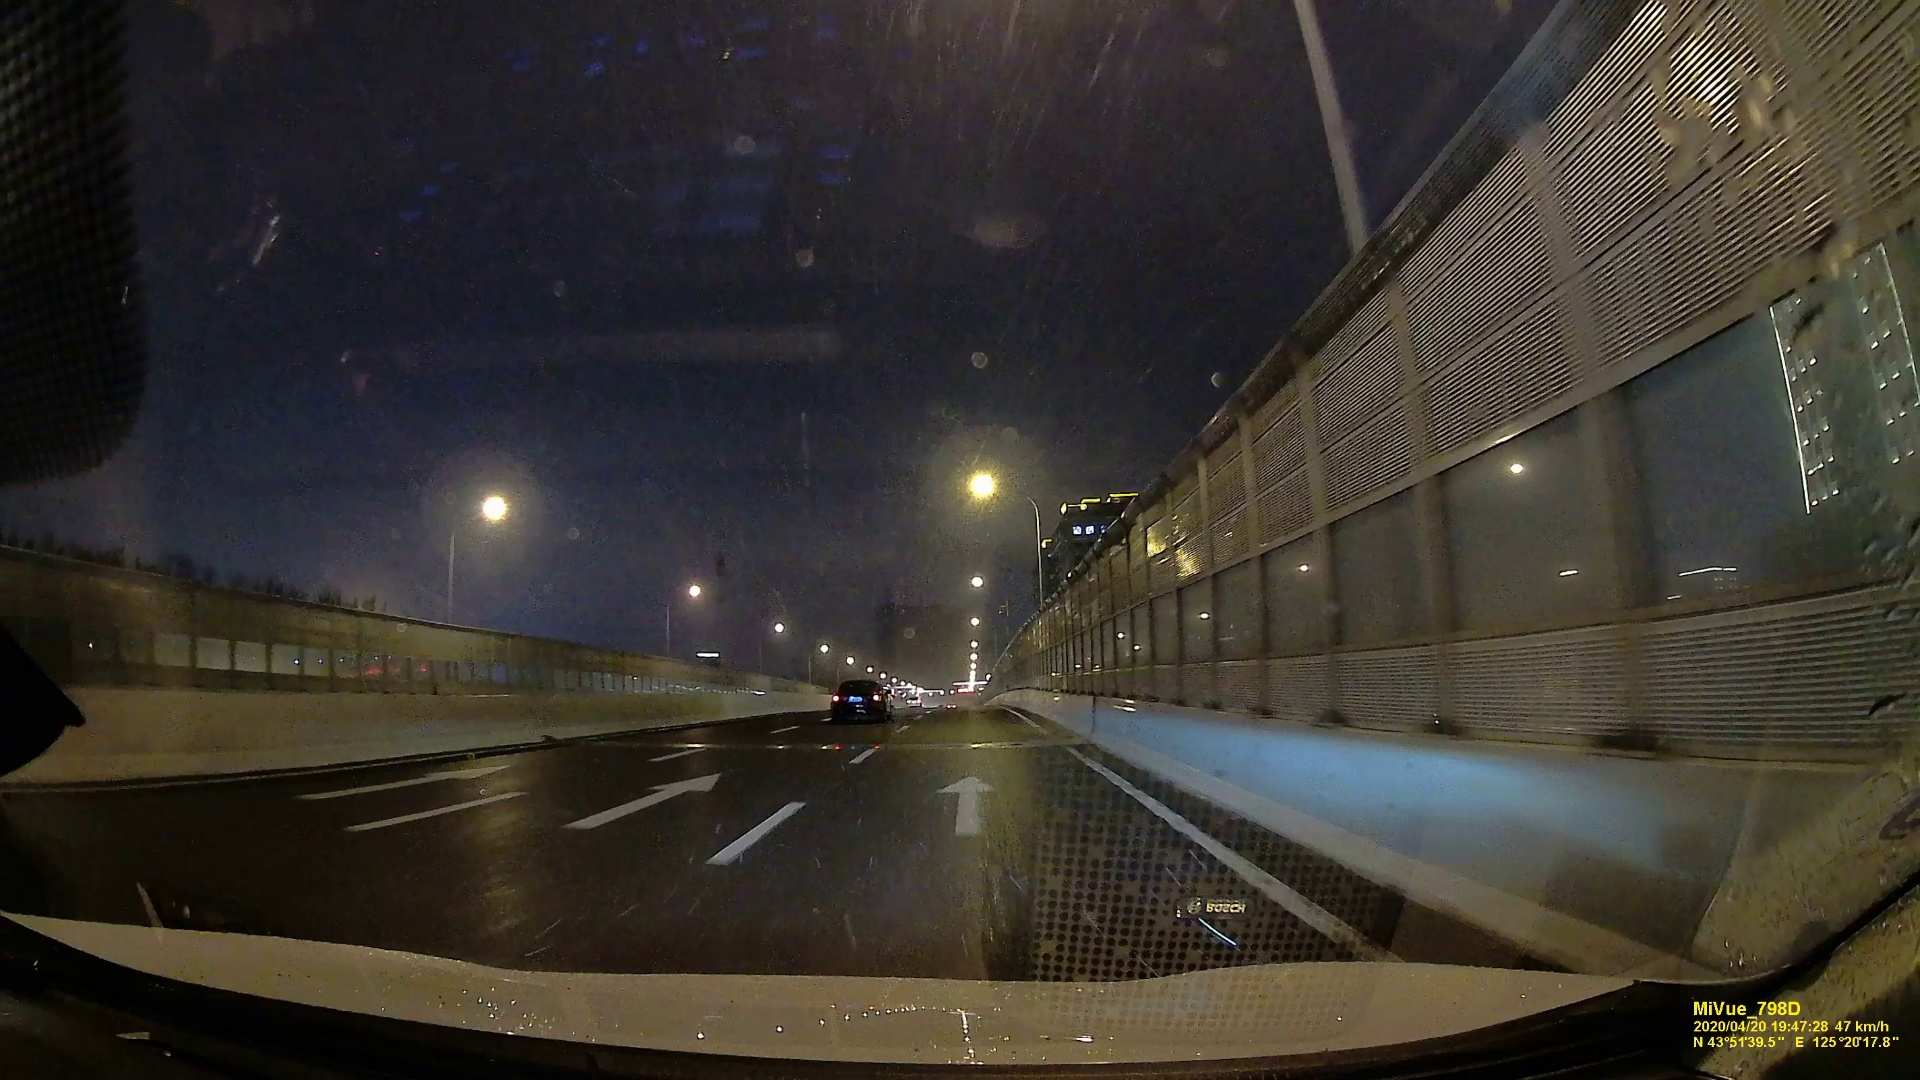vehicle: (828, 676, 891, 727)
